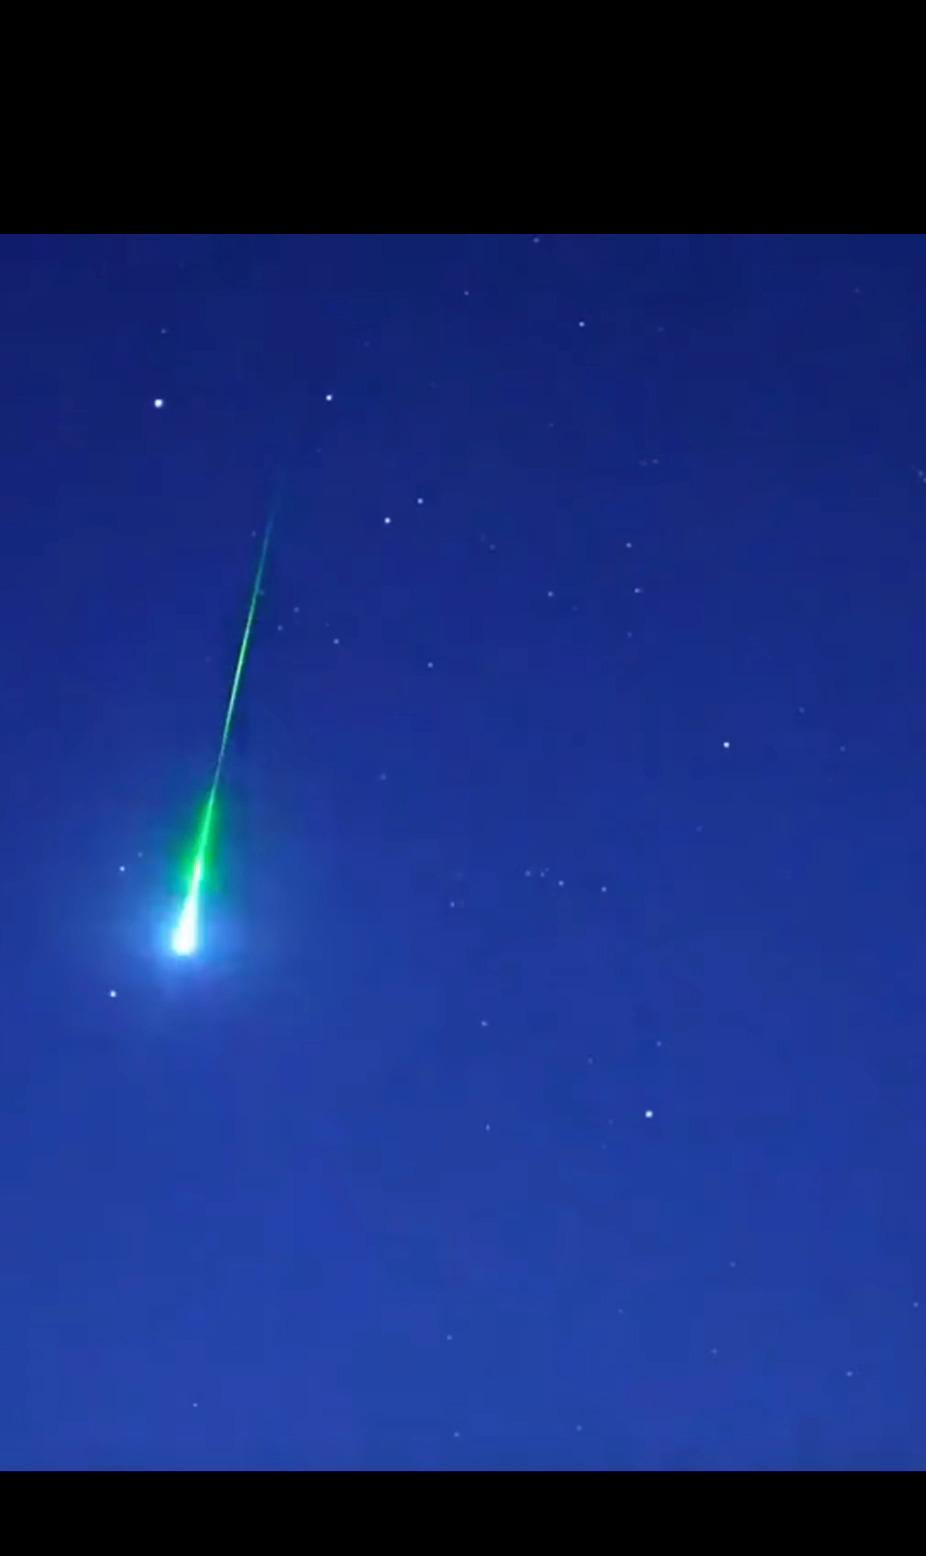meteorite: (131, 480, 305, 1005)
